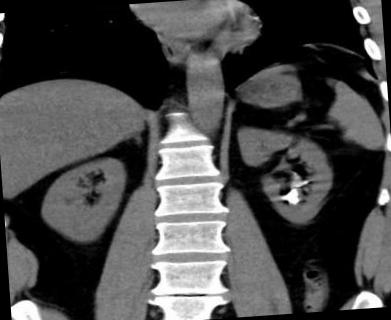Tas_Var: (279, 186, 302, 206), (300, 179, 309, 186)
